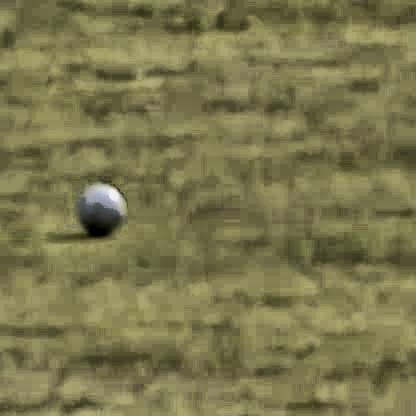golfball: (74, 179, 124, 230)
